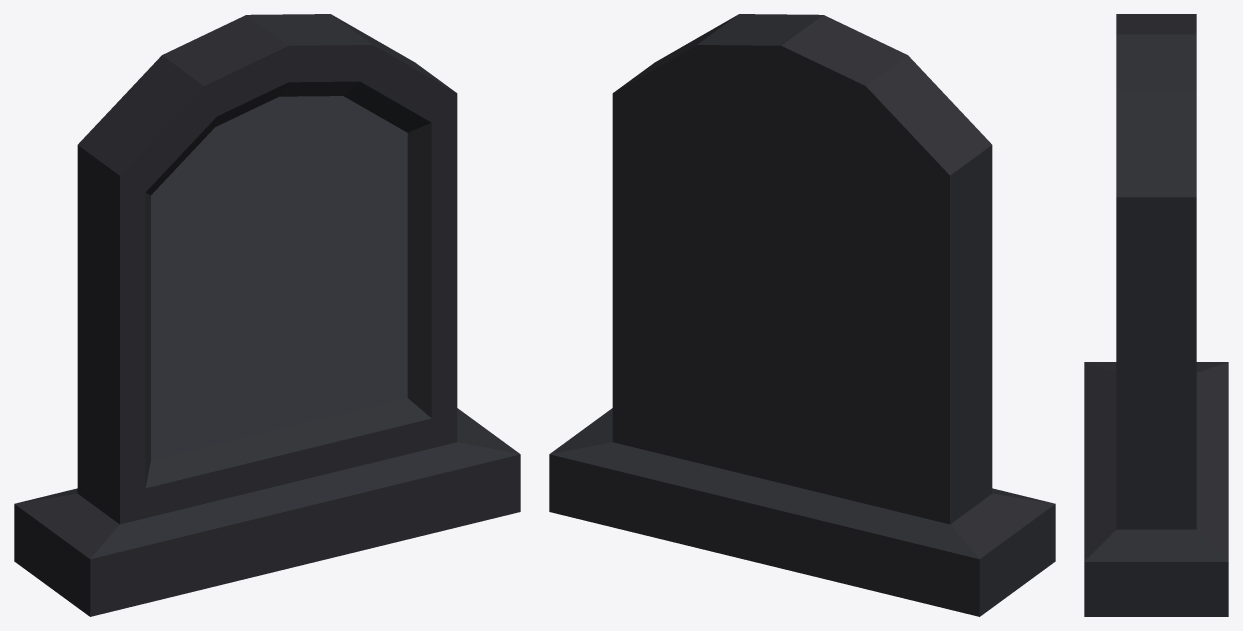
File: Tumulo3.fbx
3 views of the same model, side by side, from view 1: azimuth 30°, elevation 25°; view 2: azimuth 150°, elevation 25°; view 3: azimuth 270°, elevation 25° (orthographic). The views are drawn at different scales.
Parts seen in each view (by area): view 1: Cube.283; view 2: Cube.283; view 3: Cube.283.
Boxes of the visible parts, <box> form: Cube.283: <box>14,14,520,616</box>; Cube.283: <box>549,14,1055,616</box>; Cube.283: <box>1084,14,1228,616</box>.
Bounding box in the file's own units: 116 × 131 × 35.52.
